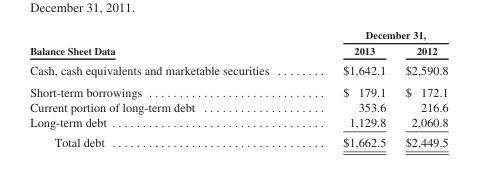table: (29, 28, 447, 148)
table column: (29, 28, 305, 148), (305, 28, 395, 148), (395, 28, 447, 148)
table column header: (29, 28, 447, 59)
table row: (29, 59, 447, 80), (29, 80, 447, 99), (29, 42, 447, 59), (29, 114, 447, 131), (29, 131, 447, 148), (29, 99, 447, 114), (29, 28, 447, 42)
table spanning cell: (29, 28, 305, 59), (305, 28, 447, 42)
